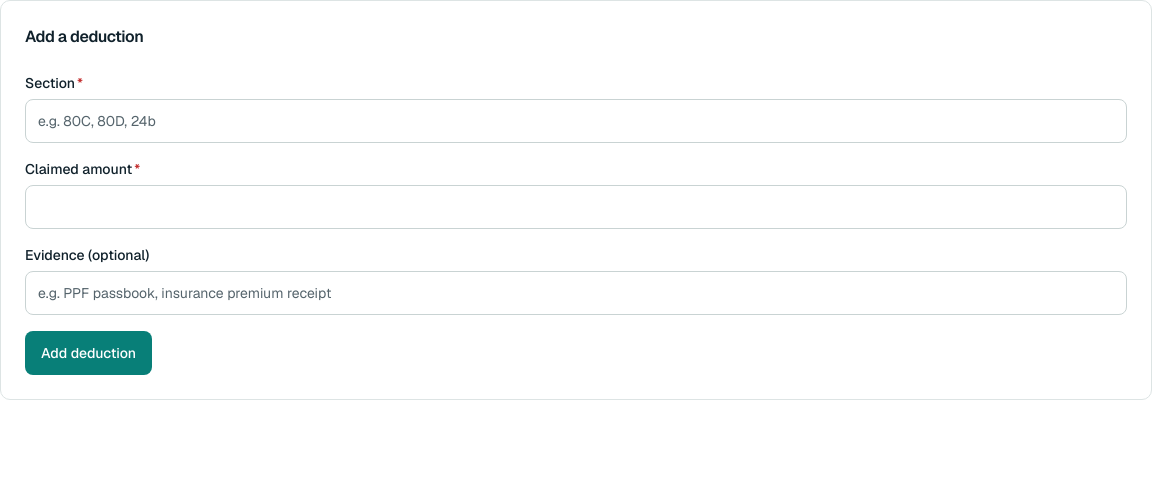
Test: TaxDeductionForm — creating a deduction › shows a validation error for a missing required field, associated with the field
The image size is (1152, 501).
Click the button "Add deduction".
click(89, 353)  # box [25,331,152,375]
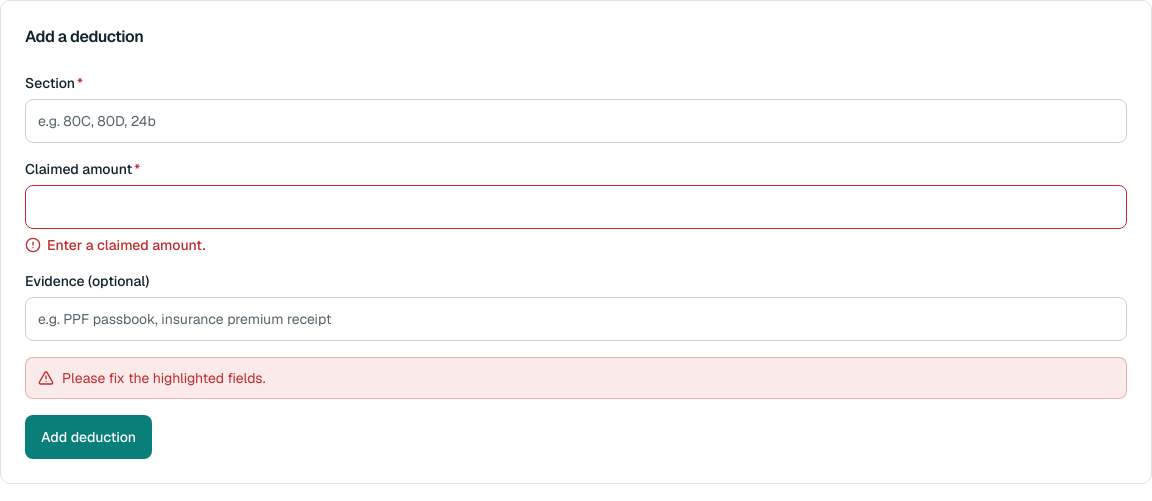
Check: the text "Enter a claimed amount." is shown, box [25,236,205,254]
